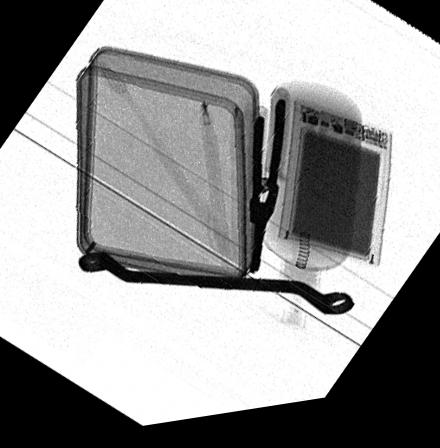Pliers: (250, 105, 285, 284)
Powerbank: (276, 110, 395, 277)
Wrench: (77, 252, 357, 325)
